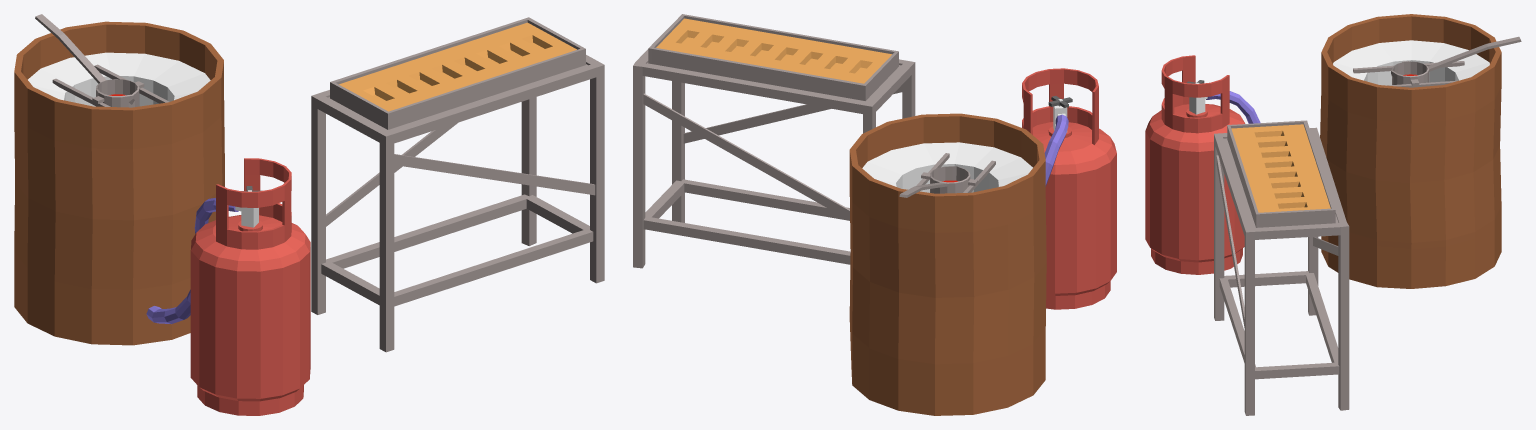
The model's file is Foundry.fbx.
3 renders of one model, left to right at view 1: azimuth 30°, elevation 25°; view 2: azimuth 150°, elevation 25°; view 3: azimuth 270°, elevation 25°, orthographic. The views are drawn at different scales.
Visible parts, largest first — view 1: Foudry1; view 2: Foudry1; view 3: Foudry1.
Boxes of the visible parts, box(x1,y1,x2,y2) form: Foudry1: box(14, 14, 604, 415); Foudry1: box(633, 14, 1116, 415); Foudry1: box(1145, 14, 1521, 415).
Bounding box in the file's own units: 349 × 171 × 279.
